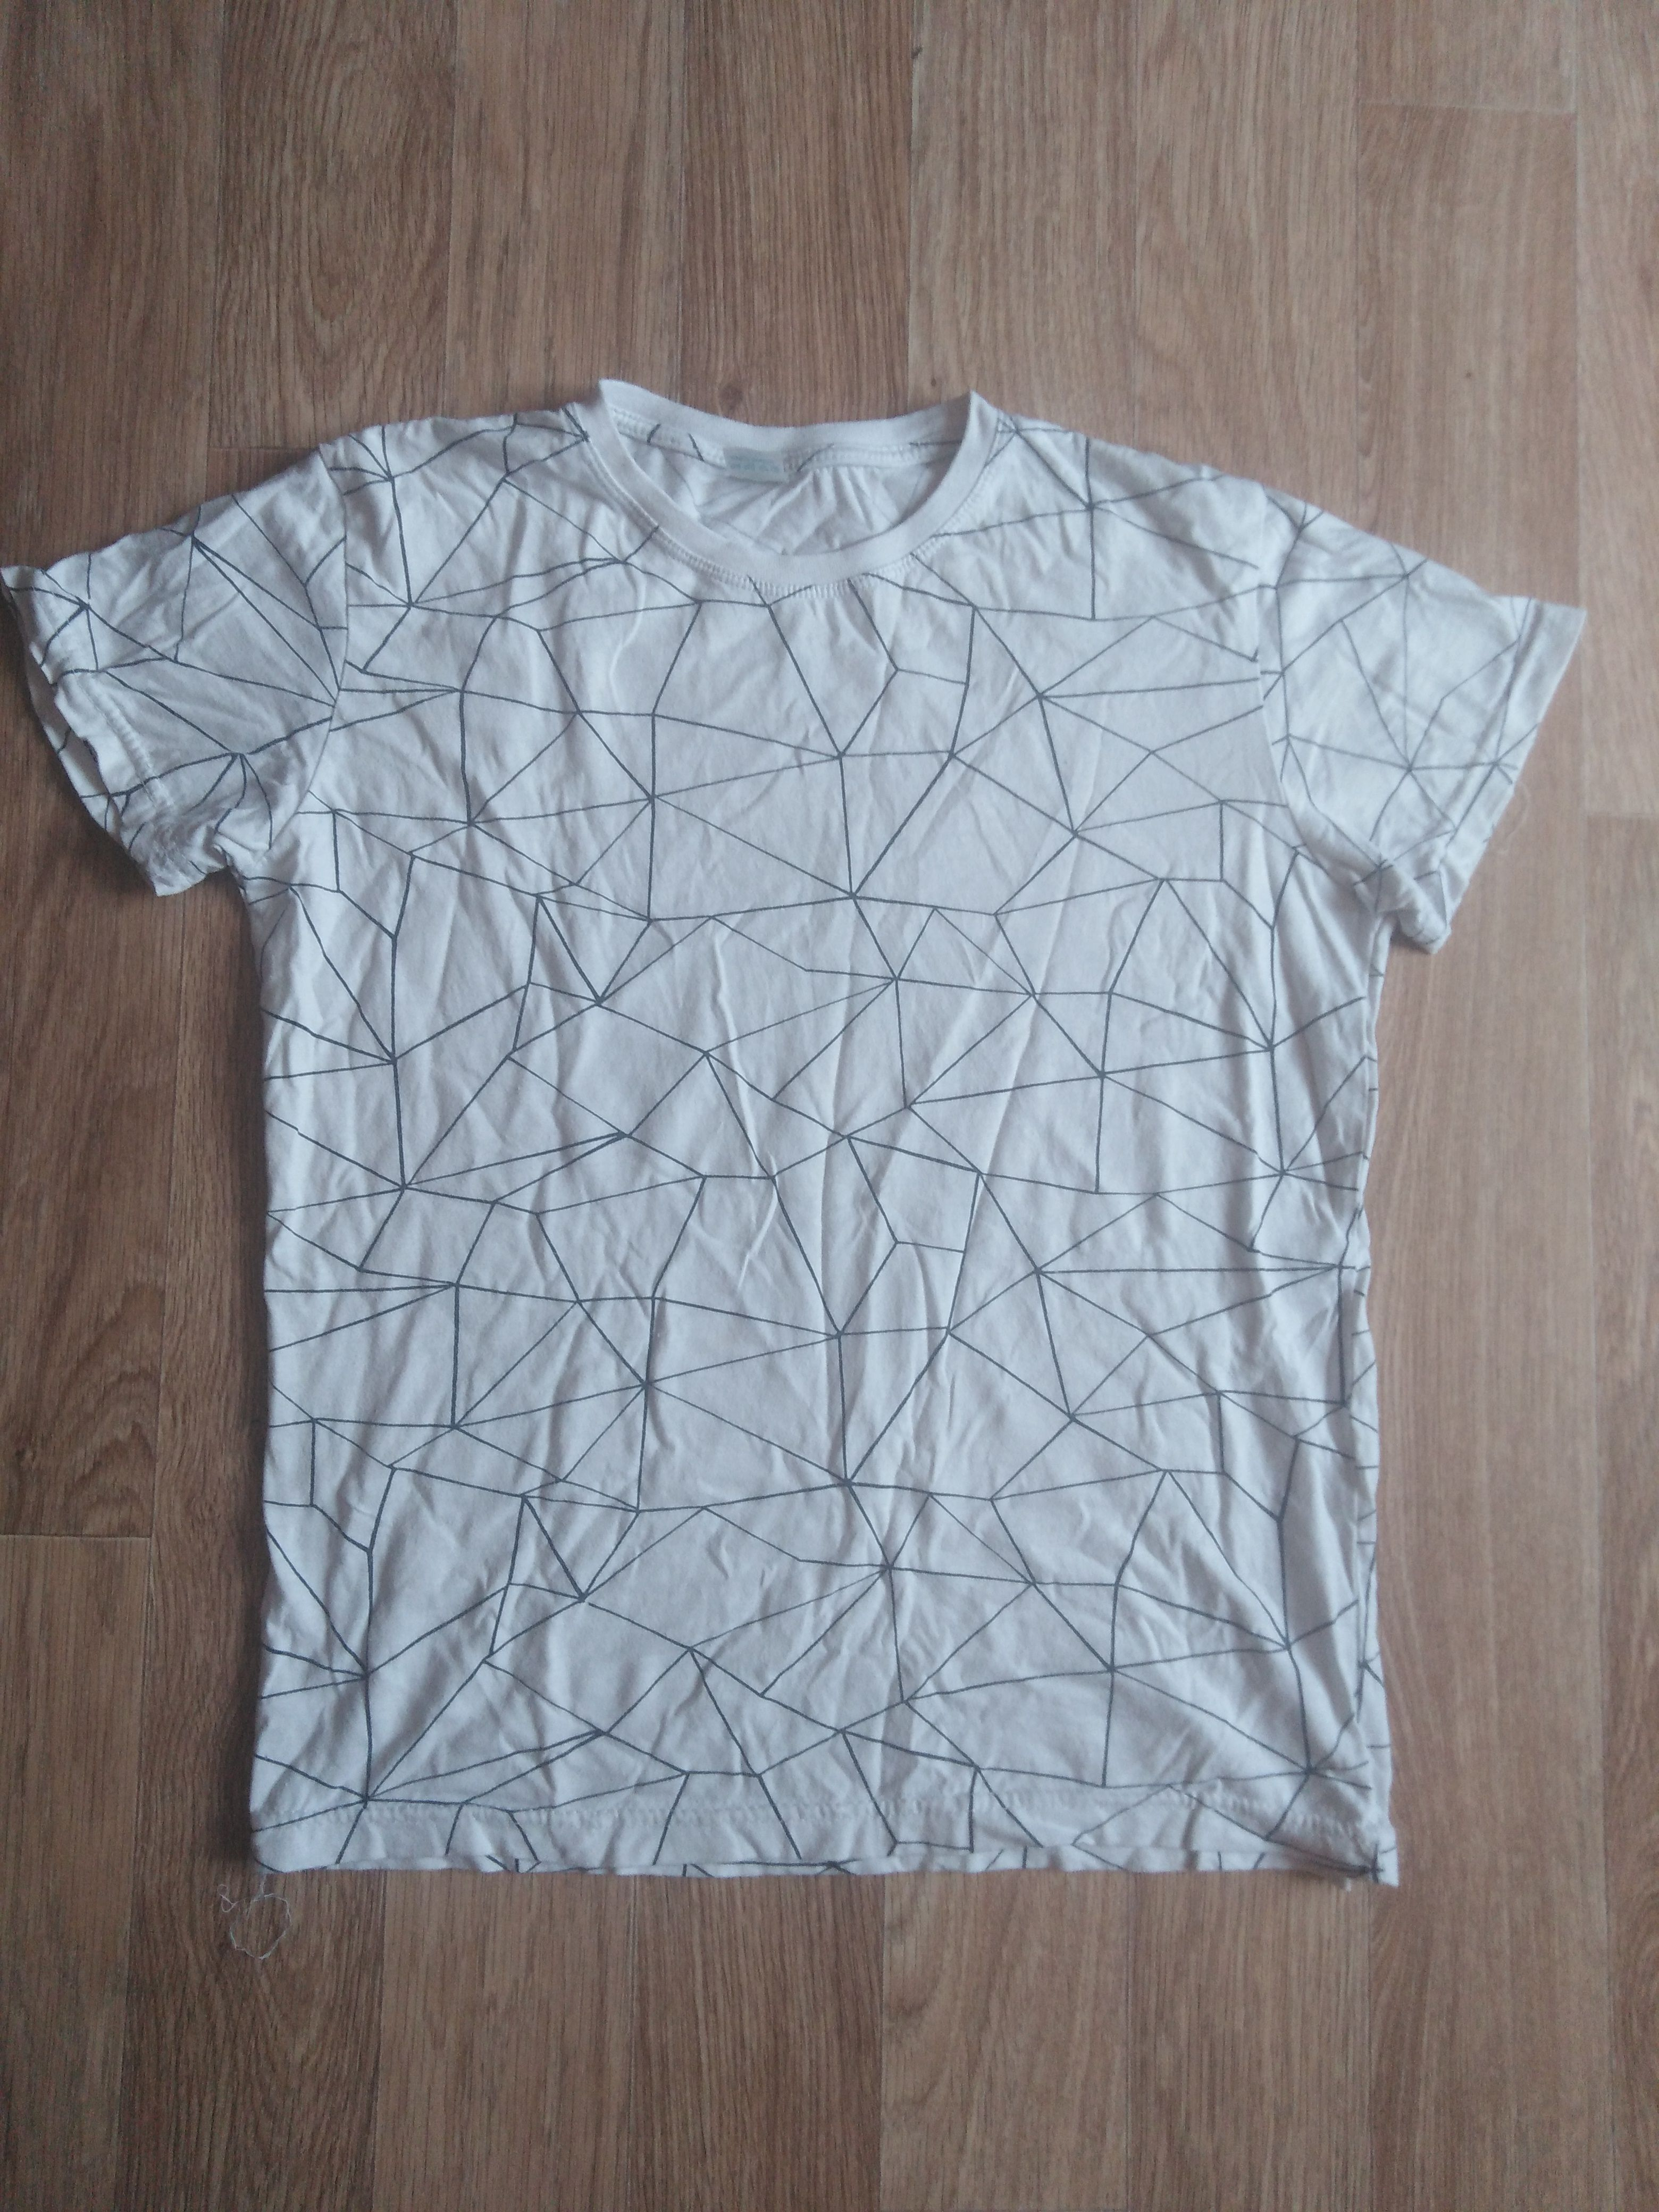clothes: (17, 347, 1588, 1937)
